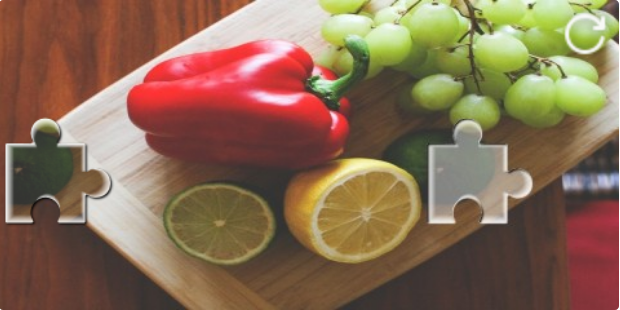target: (429, 118, 534, 225)
